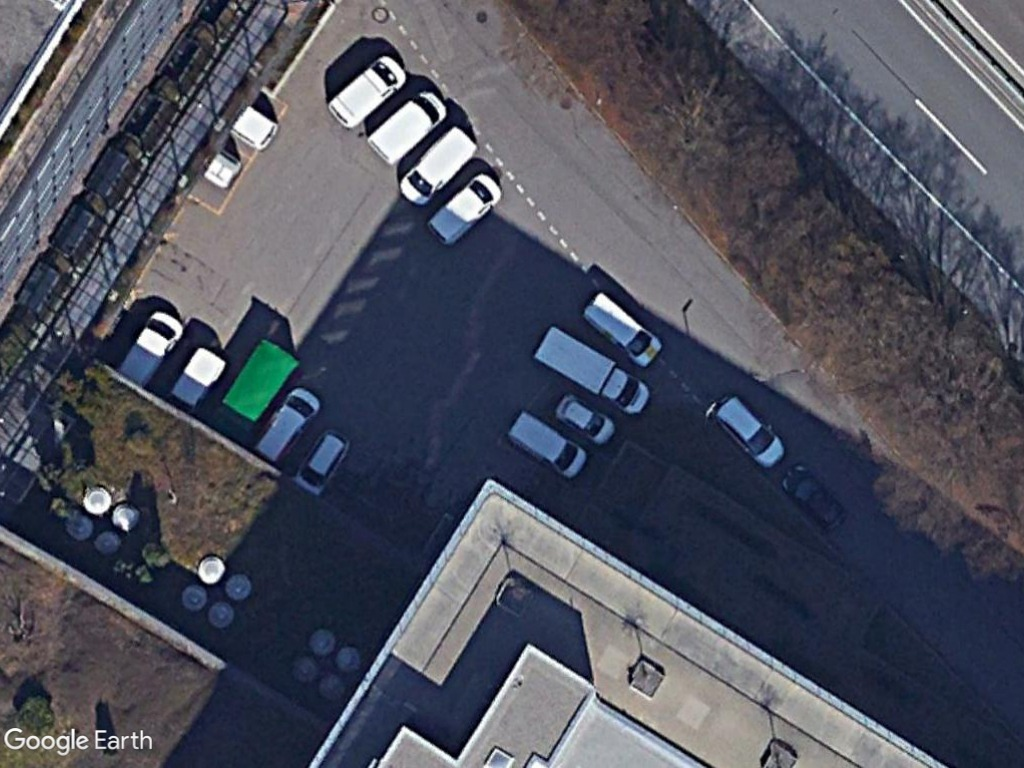car: (710, 390, 788, 473), (548, 390, 624, 445)
truck: (531, 320, 652, 420)
van: (394, 124, 482, 211), (327, 53, 413, 135), (365, 86, 451, 168), (423, 168, 506, 249), (578, 291, 666, 365), (508, 407, 589, 479), (118, 305, 188, 388), (251, 386, 323, 466)
